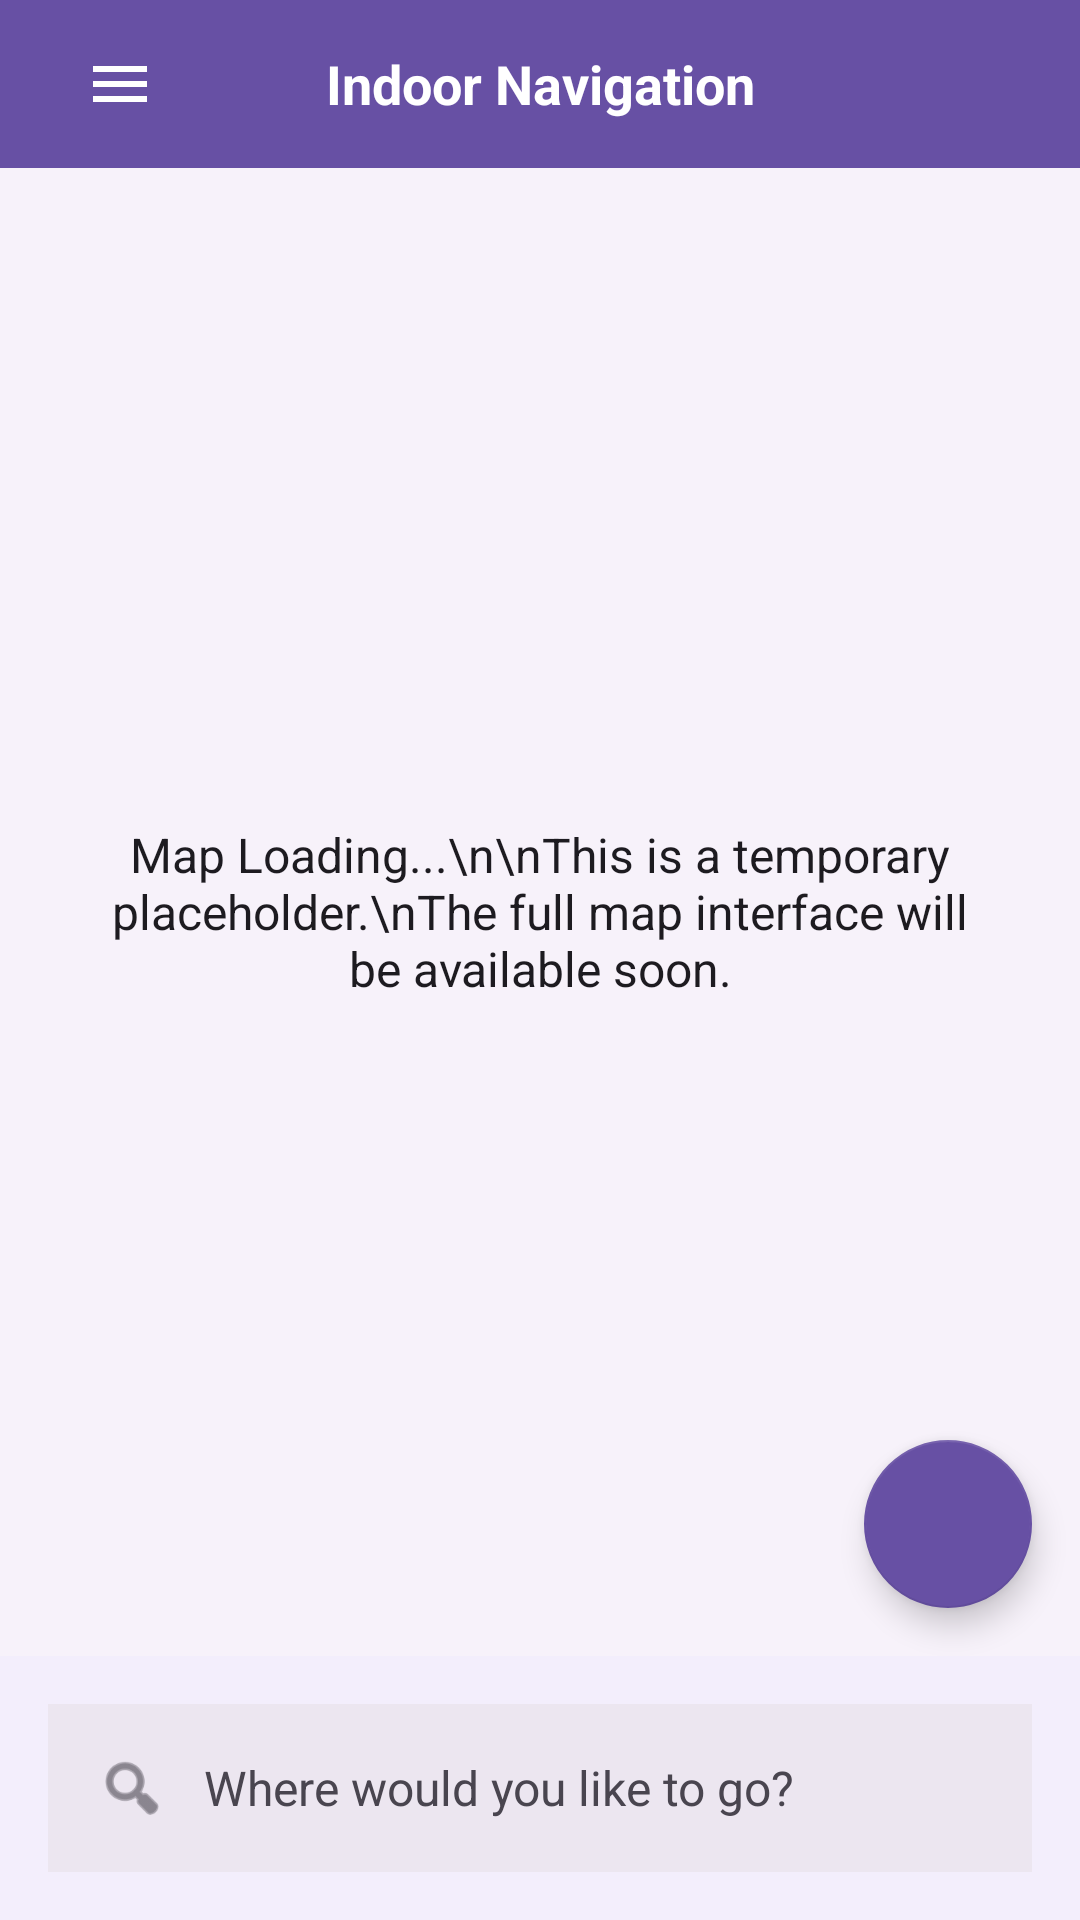

Icon click points for this 1080*1920 phone screenshot, format point (x, y):
Menu: point (120, 84)
search: point (132, 1788)
